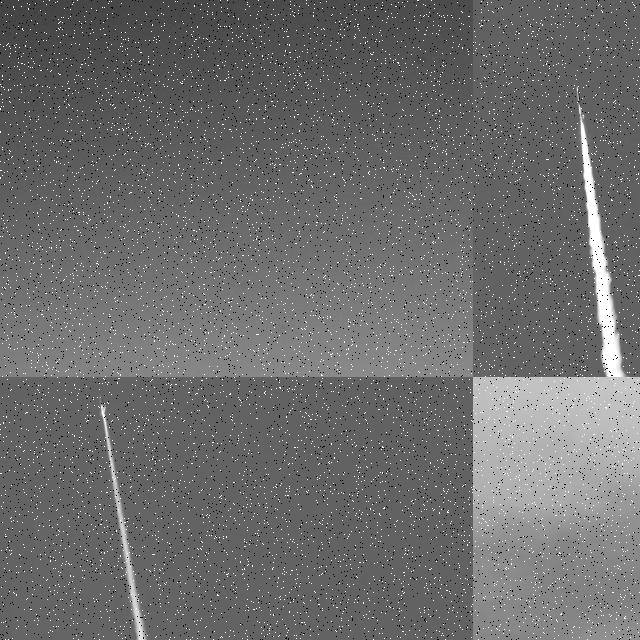Rocket: (577, 86, 584, 121), (98, 396, 106, 416)
